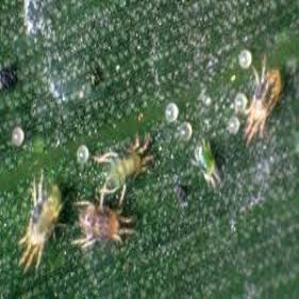spider mite: (14, 166, 66, 274), (90, 136, 170, 201), (239, 59, 296, 146), (70, 196, 133, 266), (187, 140, 233, 199)
